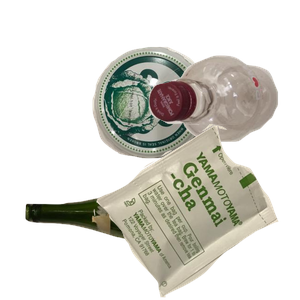glass: (23, 186, 249, 300)
metal: (90, 44, 289, 195)
plastic: (146, 53, 300, 187)
trash: (91, 124, 300, 300)
